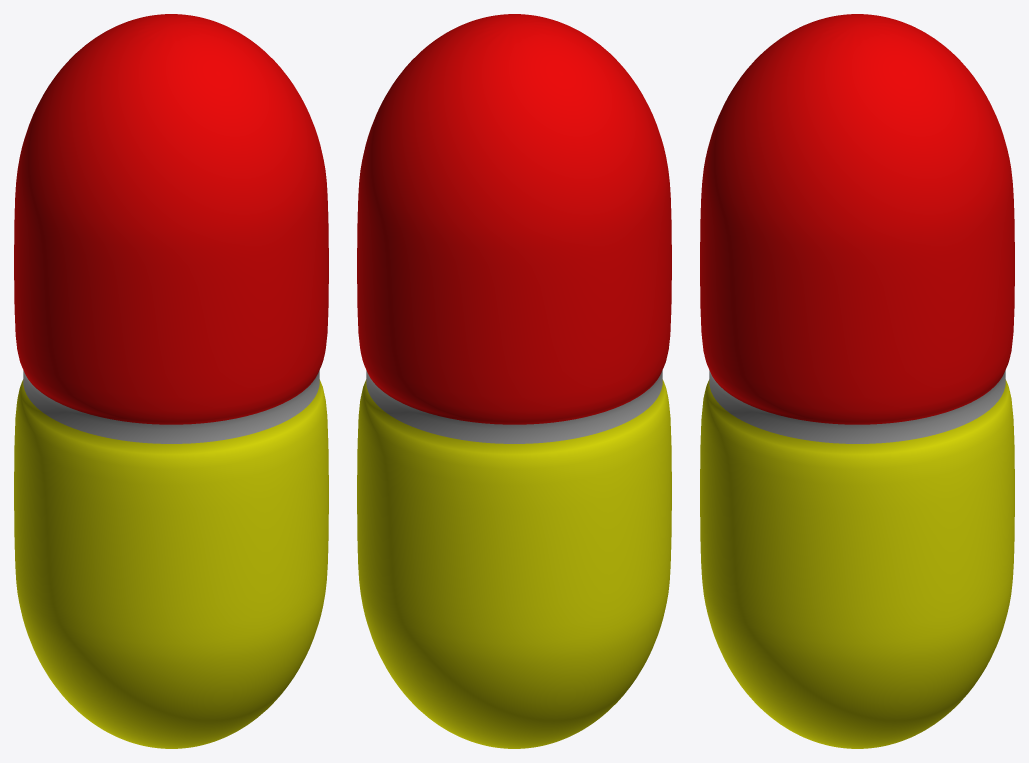
Rendered from red_yellow pill.fbx.
3 views of the same model, side by side, from view 1: azimuth 30°, elevation 25°; view 2: azimuth 150°, elevation 25°; view 3: azimuth 270°, elevation 25° (orthographic).
Visible parts, largest first — view 1: pCylinder11; view 2: pCylinder11; view 3: pCylinder11.
Part boxes in pixels (x1,y1,x2,y2): pCylinder11: [14, 14, 328, 748]; pCylinder11: [357, 14, 671, 748]; pCylinder11: [700, 14, 1014, 748].
Bounding box in the file's own units: 0.5553 × 1.39 × 0.5553.
